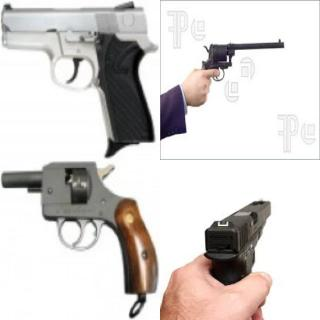gun: (2, 1, 158, 152), (2, 160, 156, 296), (201, 190, 271, 284), (200, 37, 286, 84)
